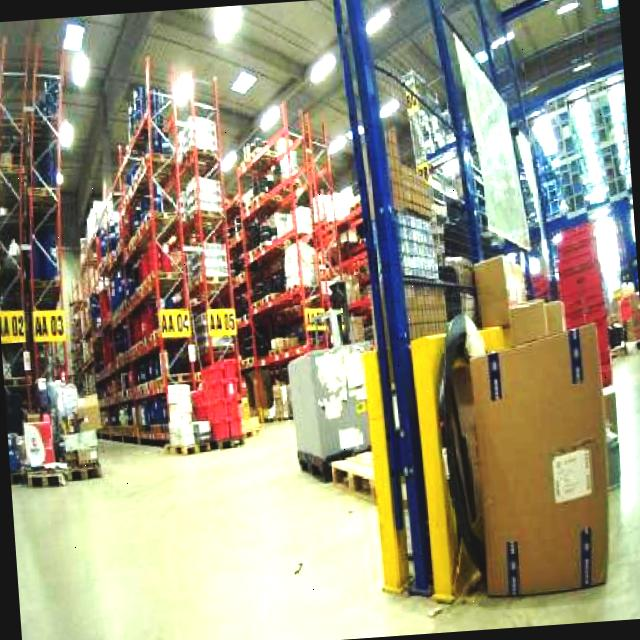ground: (4, 339, 640, 640)
pallet: (53, 23, 621, 627), (54, 35, 450, 457), (315, 245, 620, 612), (61, 49, 248, 453), (441, 319, 616, 600), (217, 97, 351, 420), (0, 19, 92, 484), (551, 219, 613, 389), (4, 382, 103, 488), (326, 447, 376, 506), (616, 289, 640, 350)
